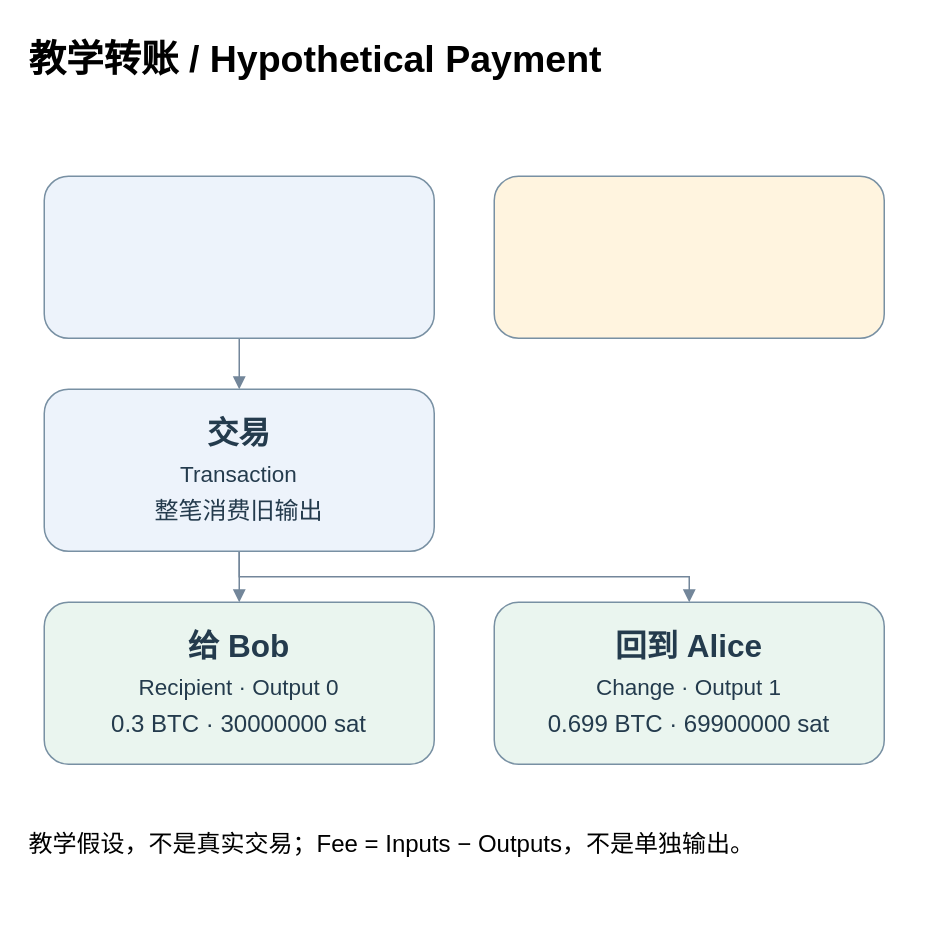
Image size: 927x950. Some labels were removed from this diagram. Each missing label, with the centre of its shape:
"旧输出 Old UTXO 1 BTC · 100000000 sat" belongs at [238,256].
"费用差额 Fee 0.001 BTC · 100000 sat" belongs at [688,256].
